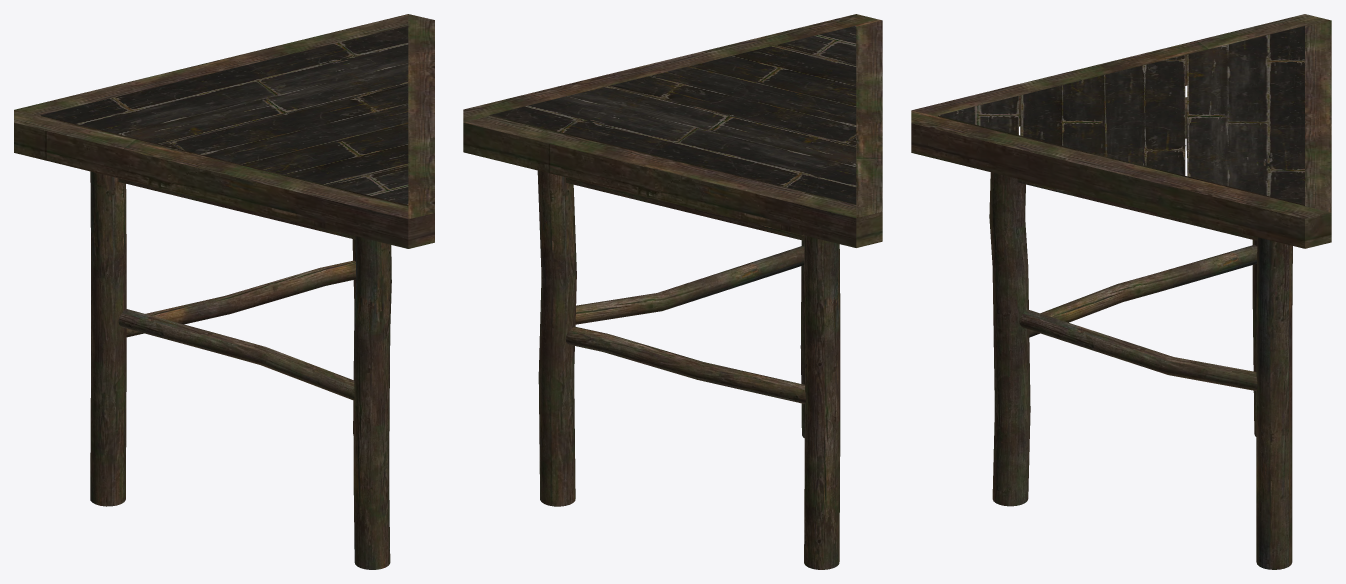
The picture shows the model from 3 angles, left to right: view 1: azimuth 30°, elevation 25°; view 2: azimuth 150°, elevation 25°; view 3: azimuth 270°, elevation 25°; orthographic projection.
Visible parts, largest first — view 1: SM_BB_T1_Foundation_Trangle_Large_LOD0; view 2: SM_BB_T1_Foundation_Trangle_Large_LOD0; view 3: SM_BB_T1_Foundation_Trangle_Large_LOD0.
Part boxes in pixels (x1=…): SM_BB_T1_Foundation_Trangle_Large_LOD0: x1=14, y1=14, x2=434, y2=569; SM_BB_T1_Foundation_Trangle_Large_LOD0: x1=463, y1=14, x2=882, y2=569; SM_BB_T1_Foundation_Trangle_Large_LOD0: x1=911, y1=14, x2=1331, y2=569.
Bounding box in the file's own units: 3.43 × 2.99 × 2.97.
2 materials, 2 textured.
